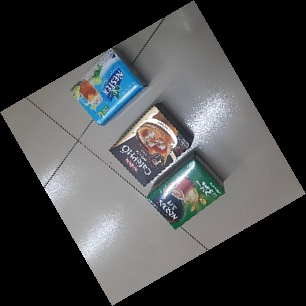CF pho: (108, 102, 191, 188)
Nes Rang: (145, 150, 225, 232)
Nestea: (69, 48, 148, 126)
